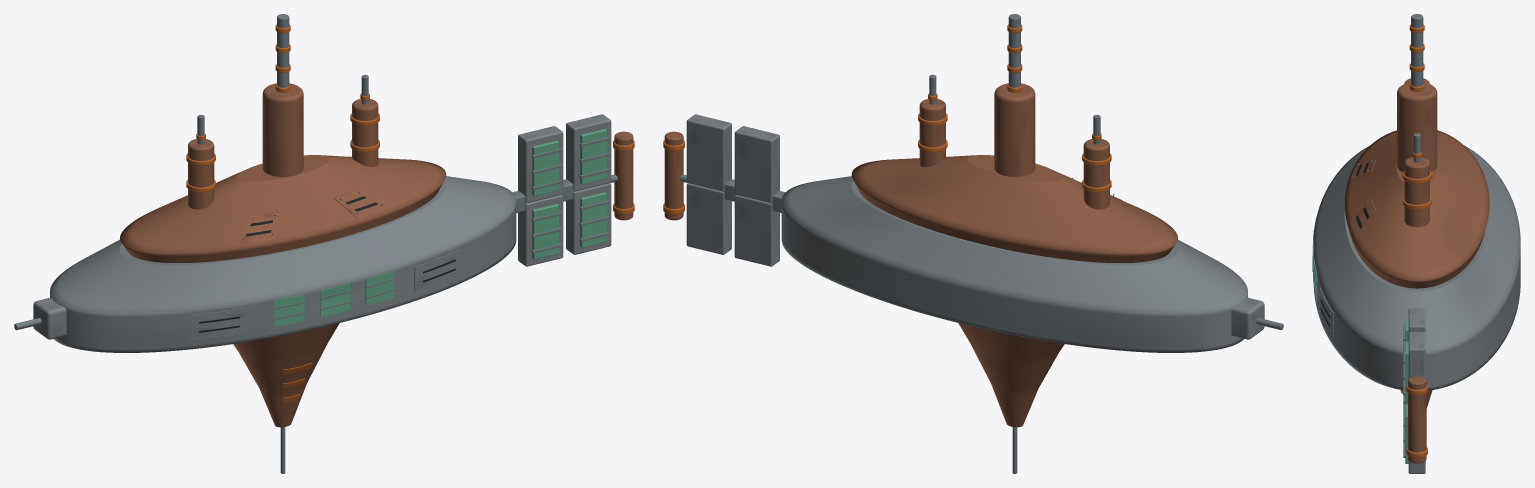
The picture shows the model from 3 angles, left to right: view 1: azimuth 30°, elevation 25°; view 2: azimuth 150°, elevation 25°; view 3: azimuth 270°, elevation 25°; orthographic projection.
Visible parts, largest first — view 1: Orbital broad casing, Orbital copper upper shell, Orbital tapered lower shell, Orbital central tower, Orbital green bank frame 0 1, Orbital green bank frame 1 1, Orbital secondary tower -1, Orbital green bank frame 1 0, Orbital green bank frame 0 0, Orbital bank terminal, Orbital secondary tower 1, Orbital service cover 0 (+12 smaller); view 2: Orbital broad casing, Orbital copper upper shell, Orbital tapered lower shell, Orbital central tower, Orbital green bank frame 0 1, Orbital green bank frame 1 1, Orbital green bank frame 1 0, Orbital green bank frame 0 0, Orbital secondary tower -1, Orbital bank terminal, Orbital secondary tower 1, Orbital opposite axial root (+1 smaller); view 3: Orbital broad casing, Orbital copper upper shell, Orbital central tower, Orbital secondary tower 1, Orbital bank terminal, Orbital green bank frame 1 1, Orbital central spire, Orbital service cover 3, Orbital green bank frame 0 1, Orbital service cover 1, Orbital service cover 2.
Boxes of the visible parts, x1,y1,x2,y2 form: Orbital broad casing: [50, 176, 516, 352]; Orbital copper upper shell: [120, 155, 446, 262]; Orbital tapered lower shell: [233, 323, 339, 427]; Orbital central tower: [262, 83, 303, 176]; Orbital green bank frame 0 1: [518, 126, 563, 203]; Orbital green bank frame 1 1: [566, 114, 611, 191]; Orbital secondary tower -1: [188, 139, 214, 209]; Orbital green bank frame 1 0: [566, 183, 611, 254]; Orbital green bank frame 0 0: [518, 195, 563, 266]; Orbital bank terminal: [614, 131, 633, 220]; Orbital secondary tower 1: [352, 99, 378, 167]; Orbital service cover 0: [191, 307, 249, 340]; Orbital broad casing: [781, 176, 1247, 352]; Orbital copper upper shell: [851, 155, 1177, 262]; Orbital tapered lower shell: [958, 323, 1064, 427]; Orbital central tower: [994, 83, 1035, 176]; Orbital green bank frame 0 1: [734, 126, 779, 203]; Orbital green bank frame 1 1: [686, 114, 731, 191]; Orbital green bank frame 1 0: [686, 183, 731, 254]; Orbital green bank frame 0 0: [734, 195, 779, 266]; Orbital secondary tower -1: [1083, 139, 1109, 209]; Orbital bank terminal: [664, 131, 683, 220]; Orbital secondary tower 1: [919, 99, 945, 167]; Orbital opposite axial root: [1231, 297, 1264, 339]; Orbital broad casing: [1313, 145, 1520, 390]; Orbital copper upper shell: [1345, 130, 1489, 288]; Orbital central tower: [1397, 82, 1437, 171]; Orbital secondary tower 1: [1404, 157, 1429, 227]; Orbital bank terminal: [1408, 376, 1426, 463]; Orbital green bank frame 1 1: [1408, 332, 1425, 378]; Orbital central spire: [1411, 14, 1423, 86]; Orbital service cover 3: [1350, 199, 1376, 237]; Orbital green bank frame 0 1: [1408, 308, 1425, 332]; Orbital service cover 1: [1320, 287, 1333, 337]; Orbital service cover 2: [1350, 160, 1376, 181].
Size of the model in its own units: 4.89 by 3.46 by 1.45.
6 materials, 2 textured.
